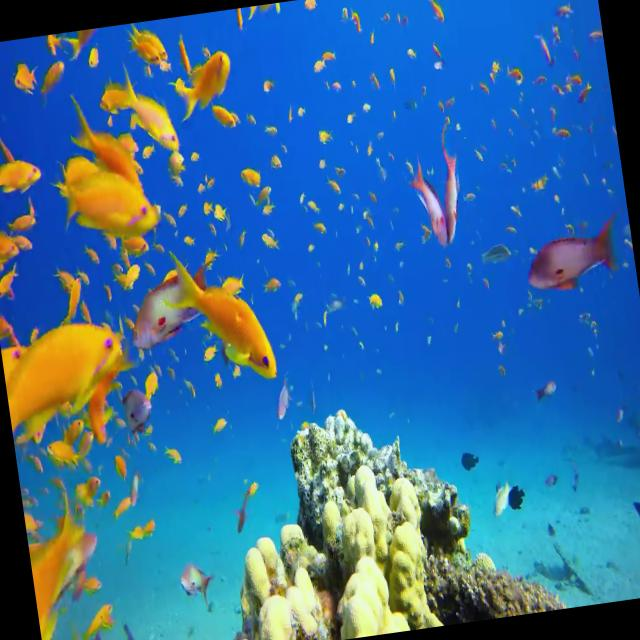fish: (0, 310, 141, 437), (172, 247, 278, 393), (70, 86, 156, 206), (119, 250, 218, 352), (48, 160, 156, 246), (522, 217, 624, 300), (172, 39, 238, 130), (122, 76, 184, 166), (435, 149, 475, 248), (410, 160, 448, 252), (0, 141, 47, 202)
